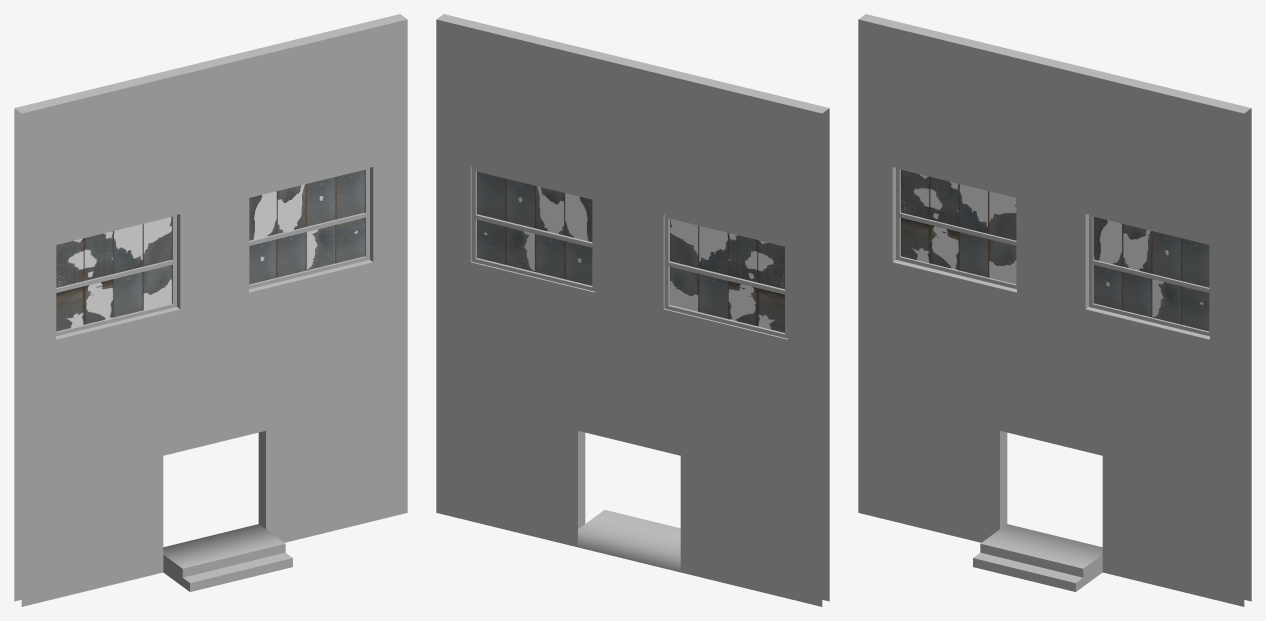
Rendered from Factory3Wall06.FBX.
3 views of the same model, side by side, from view 1: azimuth 30°, elevation 25°; view 2: azimuth 150°, elevation 25°; view 3: azimuth 330°, elevation 25° (orthographic).
Parts seen in each view (by area): view 1: Factory3Wall06, Factory3Wall06Glass; view 2: Factory3Wall06, Factory3Wall06Glass; view 3: Factory3Wall06, Factory3Wall06Glass.
Boxes of the visible parts, x1,y1,x2,y2 form: Factory3Wall06: [14, 14, 407, 606]; Factory3Wall06Glass: [56, 170, 364, 331]; Factory3Wall06: [436, 14, 829, 606]; Factory3Wall06Glass: [477, 171, 784, 332]; Factory3Wall06: [858, 14, 1251, 606]; Factory3Wall06Glass: [901, 170, 1209, 331].
Bounding box in the file's own units: 900 × 1100 × 139.
